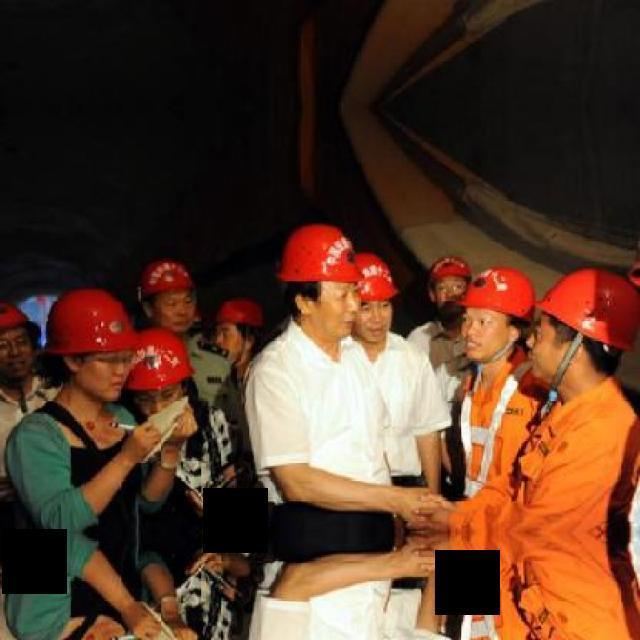red helmet: (534, 265, 637, 355), (43, 286, 143, 356), (280, 225, 364, 285), (127, 329, 196, 394), (458, 267, 533, 325), (348, 253, 398, 301), (140, 258, 196, 292), (216, 296, 264, 325), (1, 301, 39, 332), (428, 256, 473, 282)
